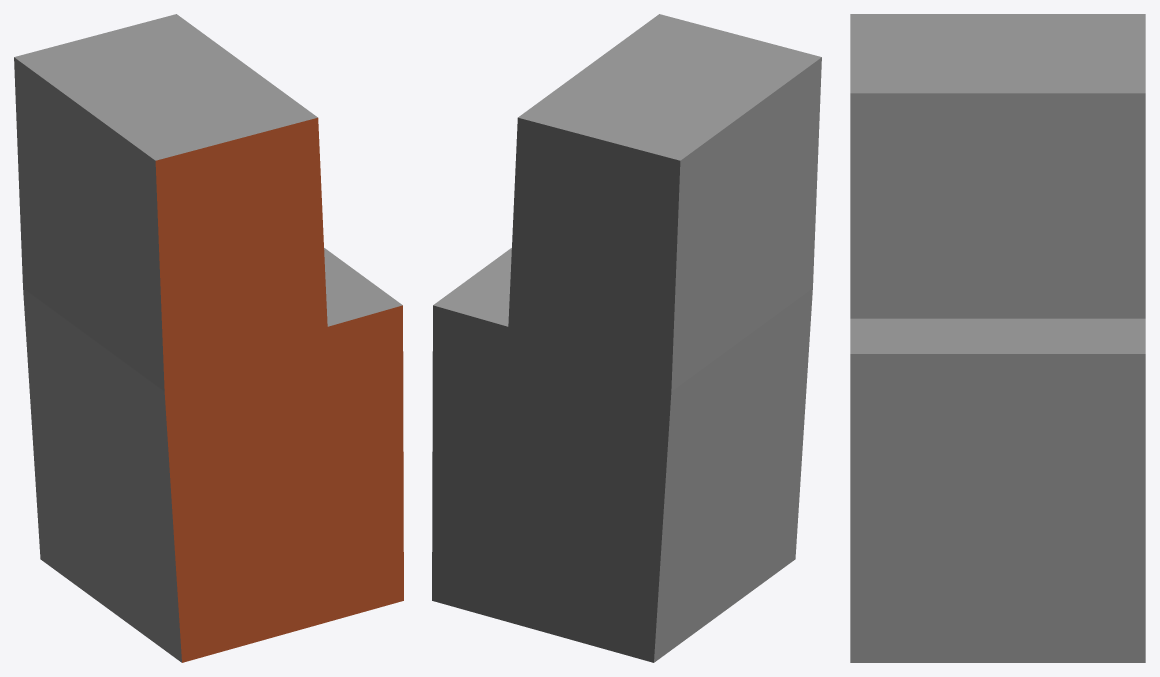
The model's file is construction_6854_assumed_A_Casa_h6m.obj.
The picture shows the model from 3 angles, left to right: view 1: azimuth 30°, elevation 25°; view 2: azimuth 150°, elevation 25°; view 3: azimuth 270°, elevation 25°; orthographic projection. The views are drawn at different scales.
Visible parts, largest first — view 1: construction_6854_assumed_A_Casa; view 2: construction_6854_assumed_A_Casa; view 3: construction_6854_assumed_A_Casa.
Part boxes in pixels (box(x1,y1,x2,y2)): construction_6854_assumed_A_Casa: box(14, 14, 403, 662); construction_6854_assumed_A_Casa: box(432, 14, 821, 662); construction_6854_assumed_A_Casa: box(850, 14, 1145, 662).
Bounding box in the file's own units: 6.08 × 11.97 × 6.
